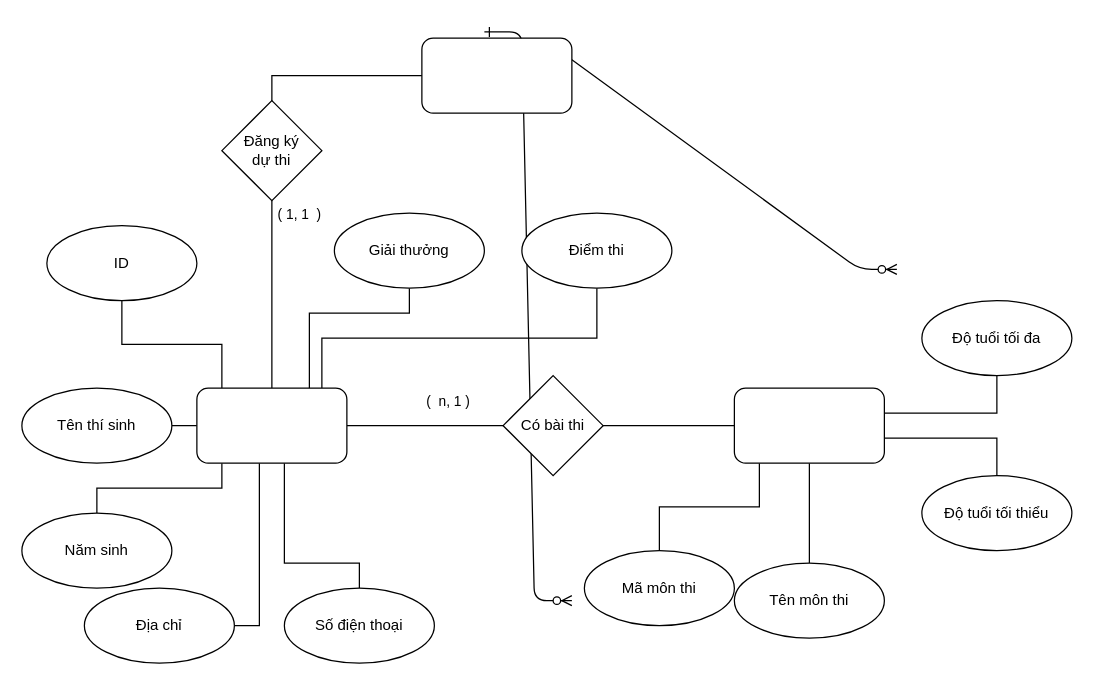
Some shapes in this 1094 by 685 pixel diagram are drawn without their labels. Each missing label, with the box of its shape:
Ban tổ chức: (421, 37, 572, 113)
Môn thi: (733, 387, 884, 463)
Thí sinh: (196, 387, 347, 463)
